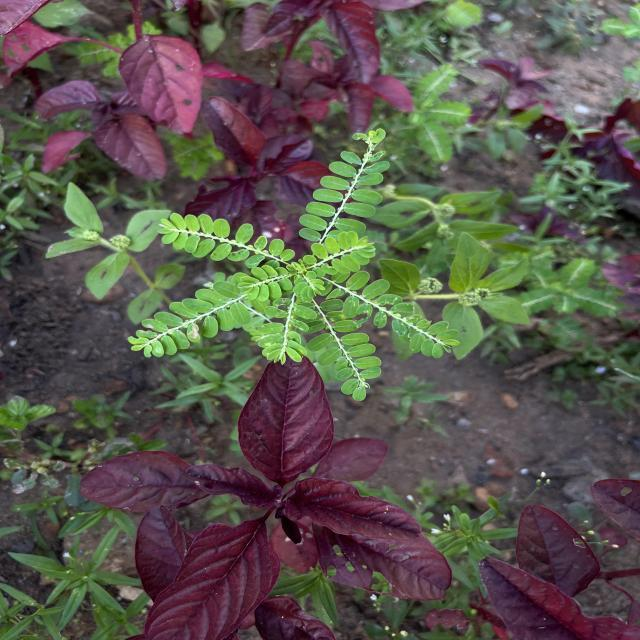Phyllanthus niruri: (332, 269, 464, 360), (296, 126, 394, 244), (128, 278, 255, 358), (154, 210, 292, 270), (306, 299, 384, 402), (256, 297, 315, 365), (301, 230, 378, 274)
